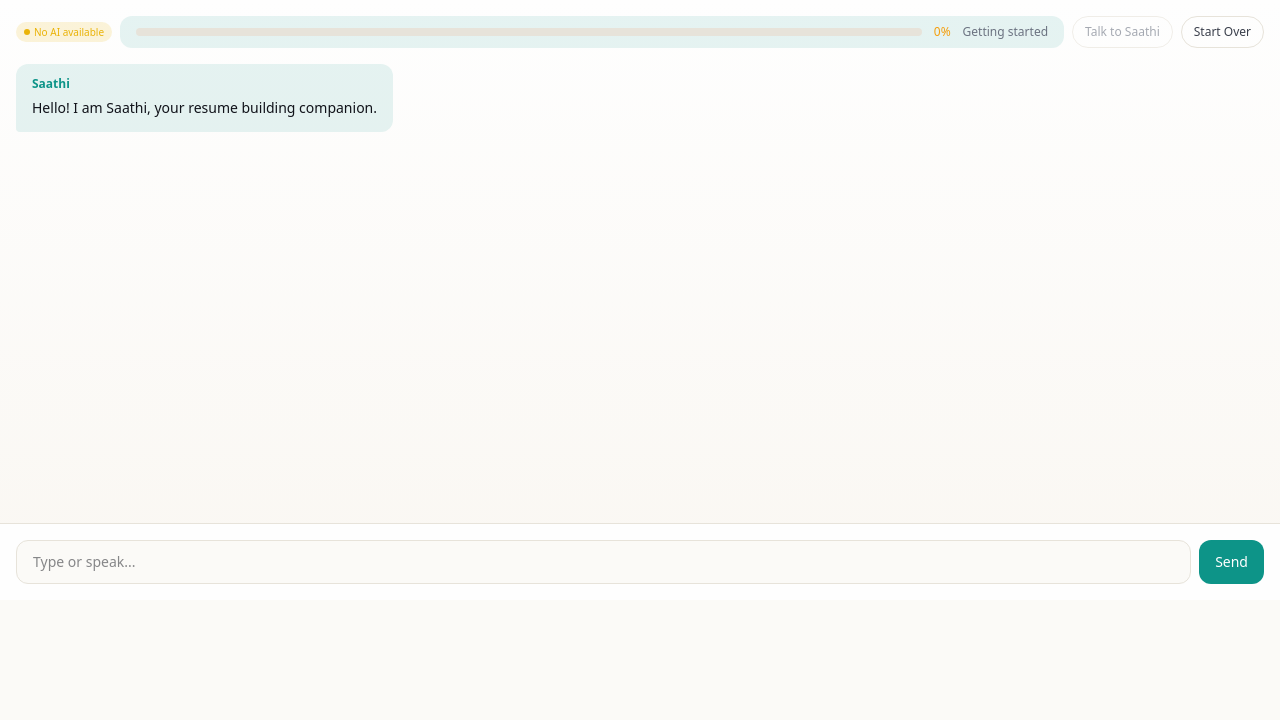
Test: SaathiChat › sends message on form submit and shows reply after typing delay
In the field: [604, 562] box [16,540,1191,584], type "My name is Rahul"
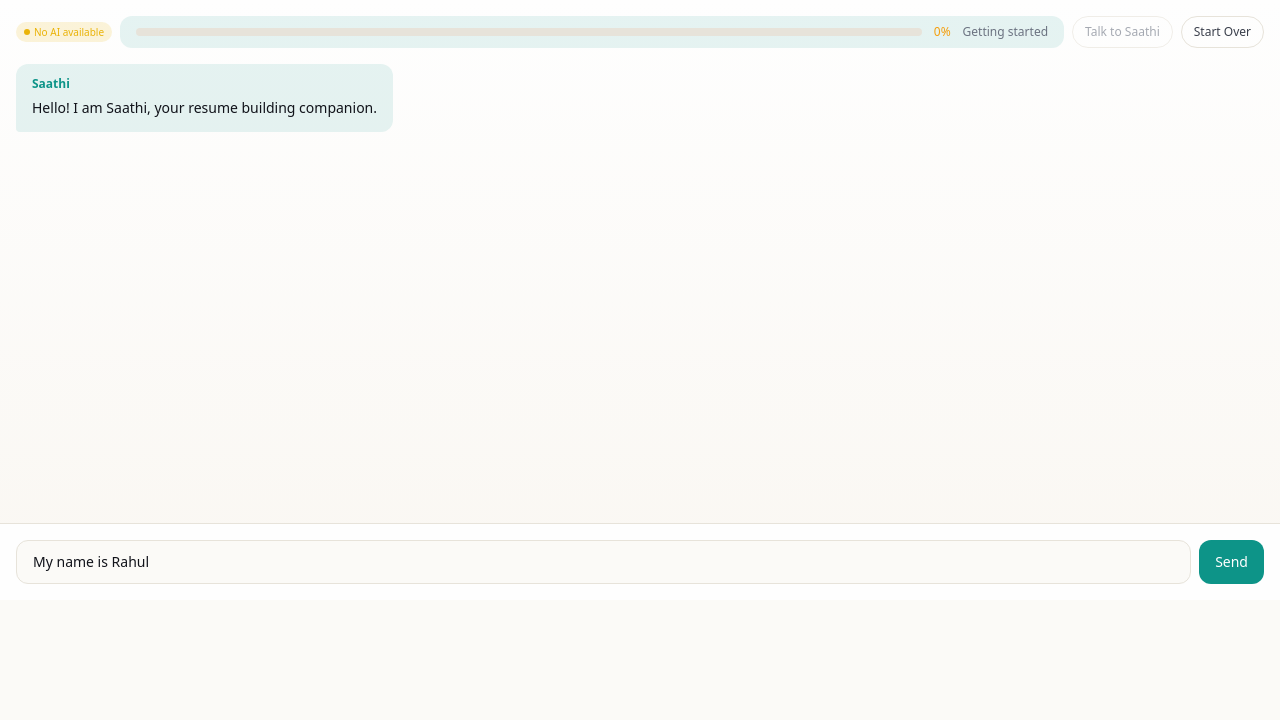
Submit the form, box [16,540,1264,584]
Wait 1000 ms
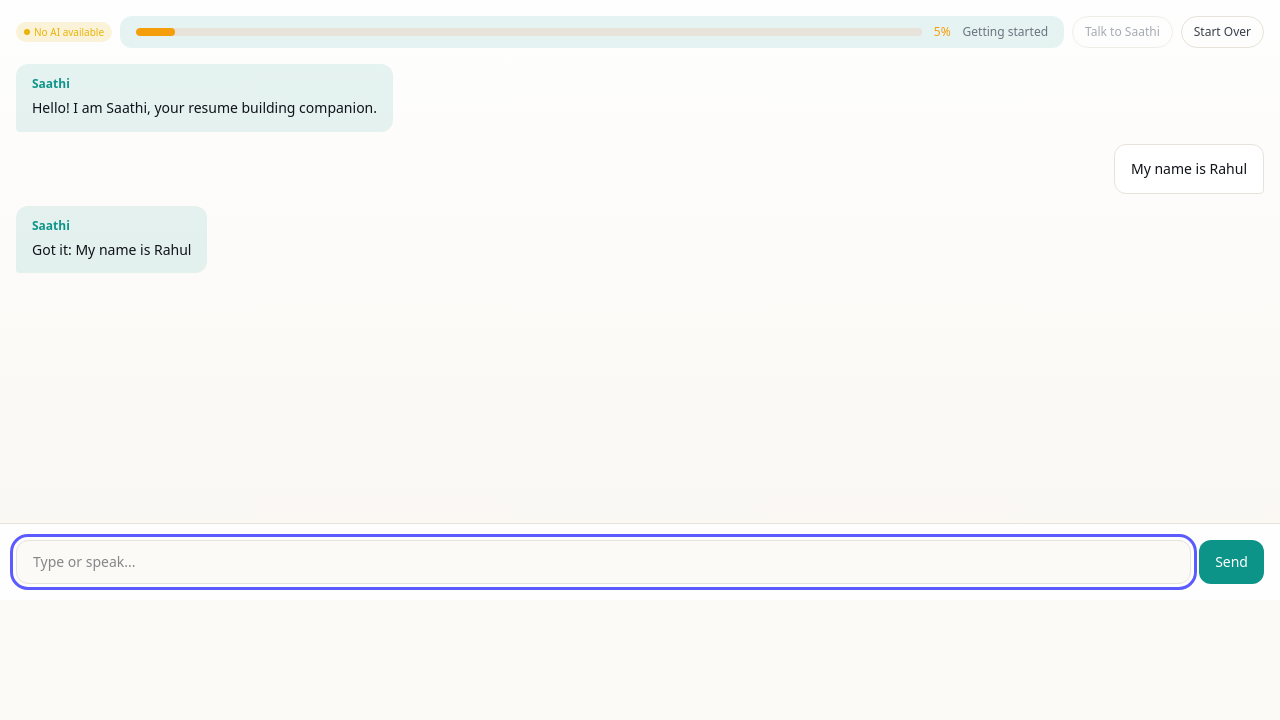
Expected: the text "My name is Rahul" is shown, [1131,157,1247,181]
Expected: the text "Got it: My name is Rahul" is shown, [32,238,192,261]
